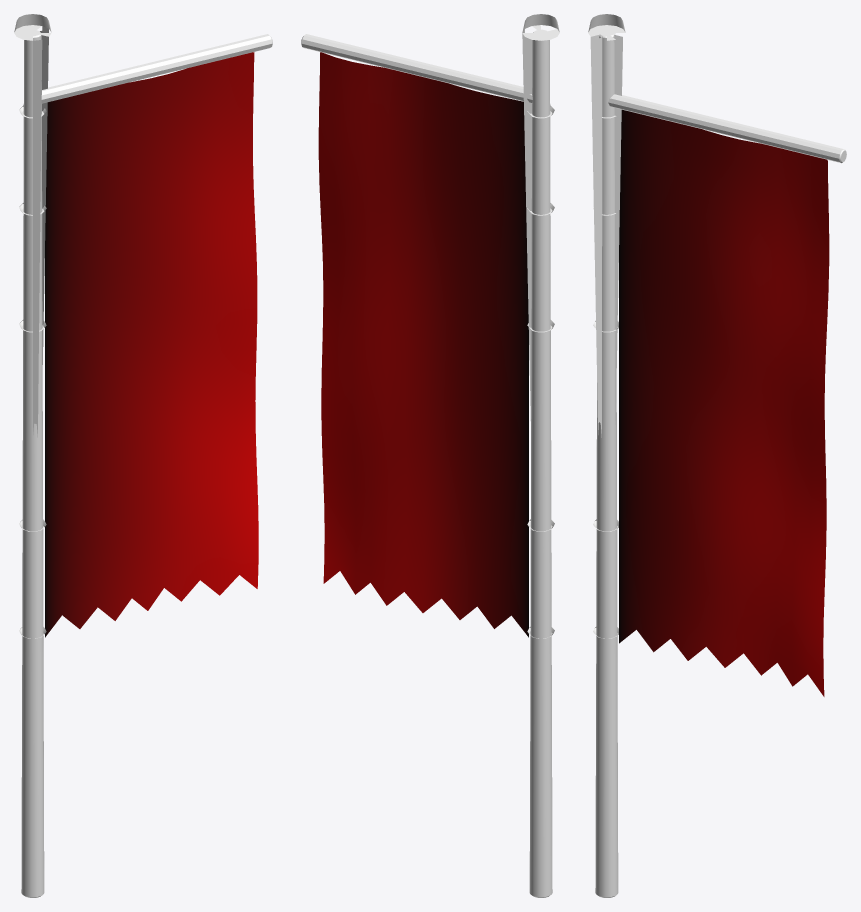
File: banner.glb
3 views of the same model, side by side, from view 1: azimuth 30°, elevation 25°; view 2: azimuth 150°, elevation 25°; view 3: azimuth 330°, elevation 25° (orthographic).
Parts seen in each view (by area): view 1: banner-cloth, banner; view 2: banner-cloth, banner; view 3: banner-cloth, banner.
Part boxes in pixels (x1=…): banner-cloth: x1=45, y1=52, x2=258, y2=637; banner: x1=14, y1=14, x2=272, y2=897; banner-cloth: x1=318, y1=52, x2=528, y2=637; banner: x1=301, y1=14, x2=559, y2=897; banner-cloth: x1=619, y1=109, x2=829, y2=696; banner: x1=588, y1=14, x2=846, y2=897.
Bounding box in the file's own units: 1.09 × 3.6 × 0.14.
